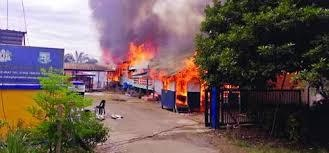fire: (107, 39, 210, 107), (149, 54, 208, 104)
